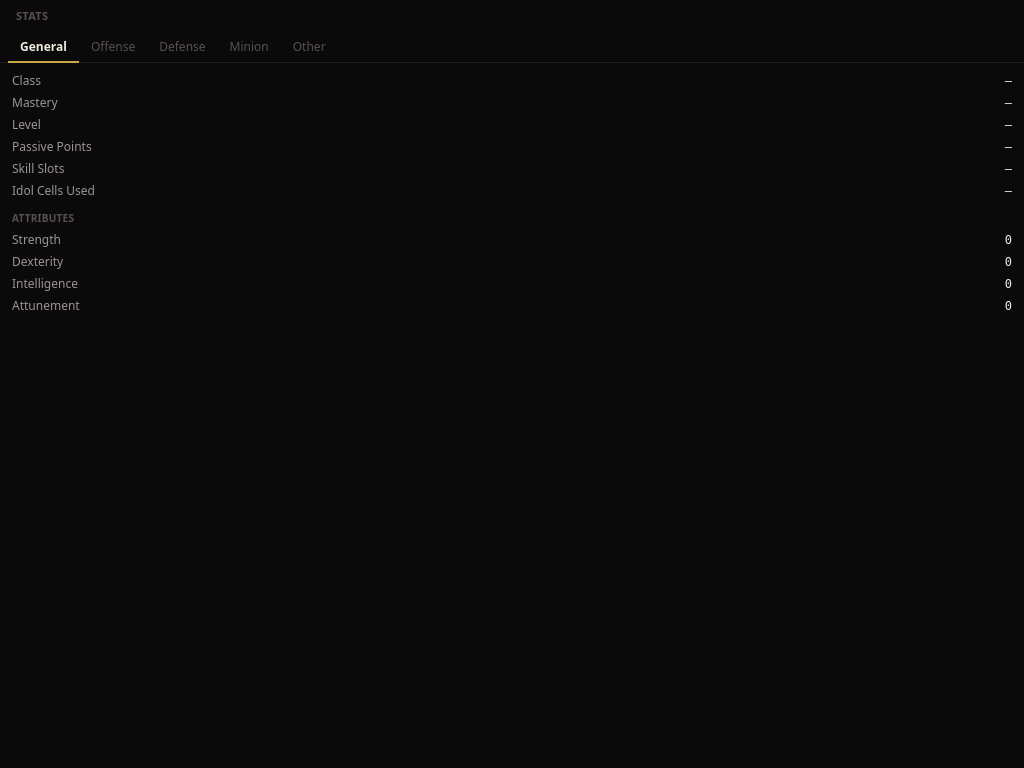
Test: StatSheetPanel › passes axe accessibility check on all tabs, including an open tooltip
Click the tab "Offense" at {"x": 113, "y": 48}, box 79,32 -> 147,62
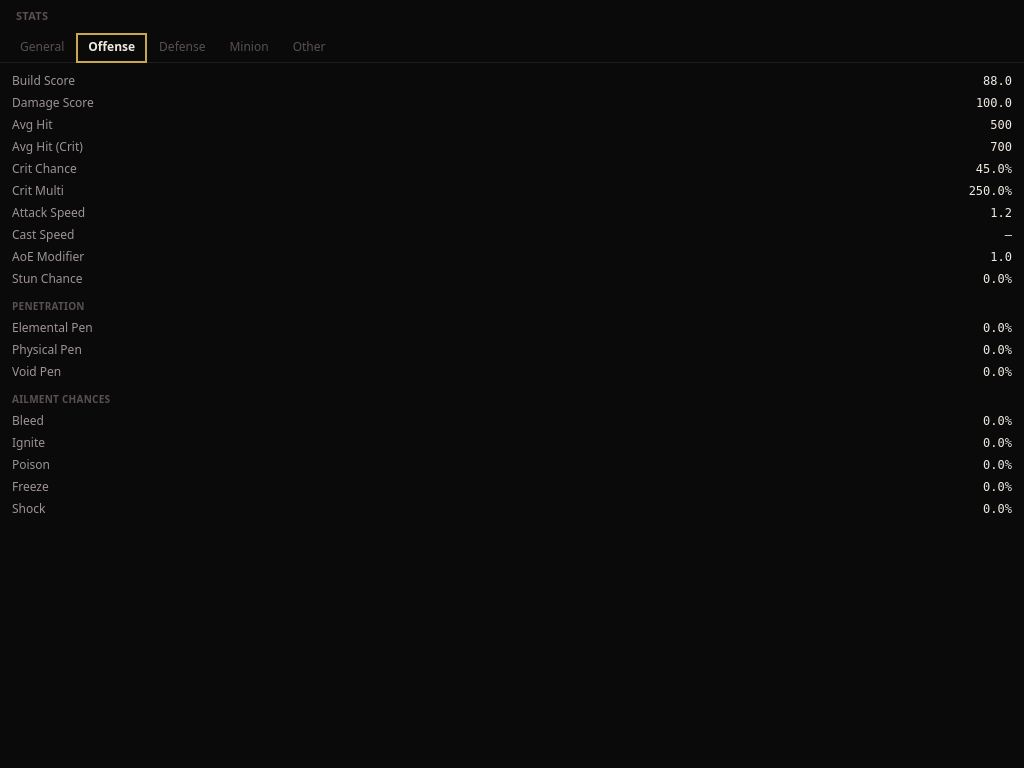
Click the tab "Defense" at {"x": 182, "y": 48}, box 147,32 -> 218,62
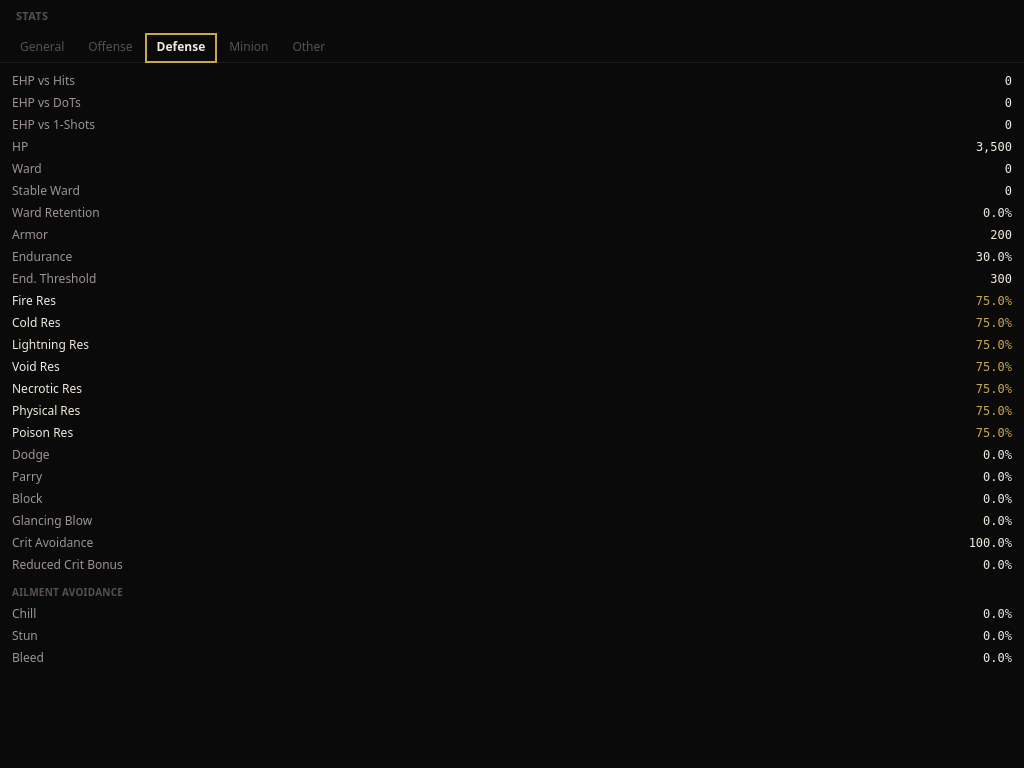
Click the tab "Minion" at {"x": 249, "y": 48}, box 217,32 -> 280,62
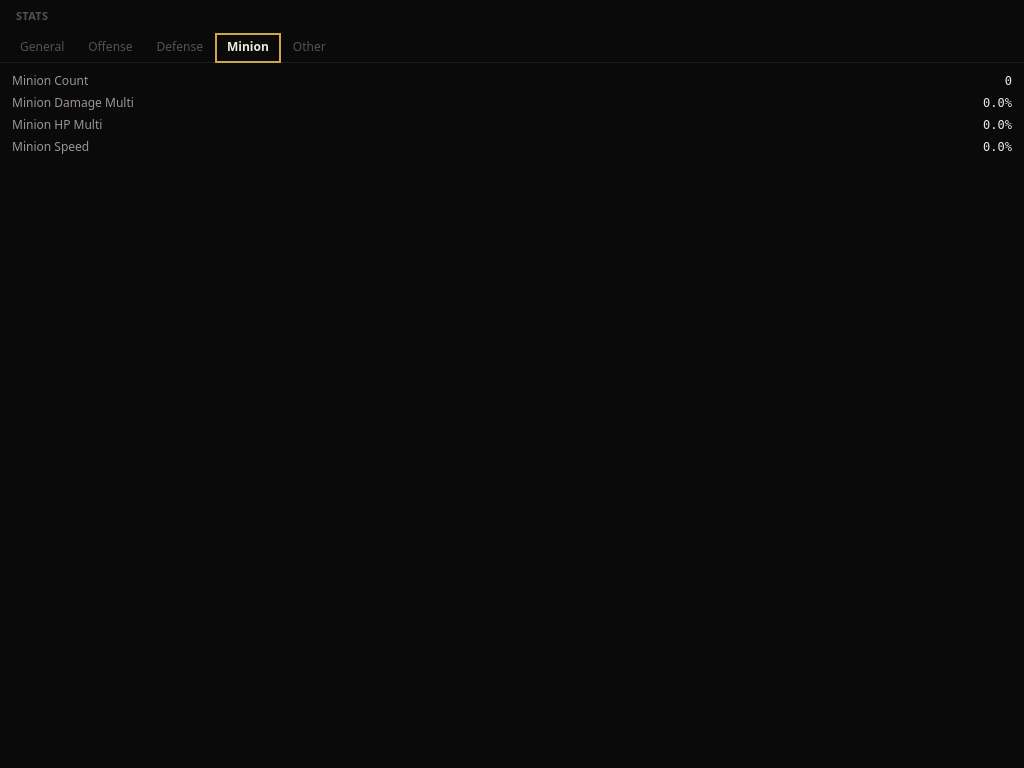
Click the tab "Other" at {"x": 309, "y": 48}, box 281,32 -> 338,62
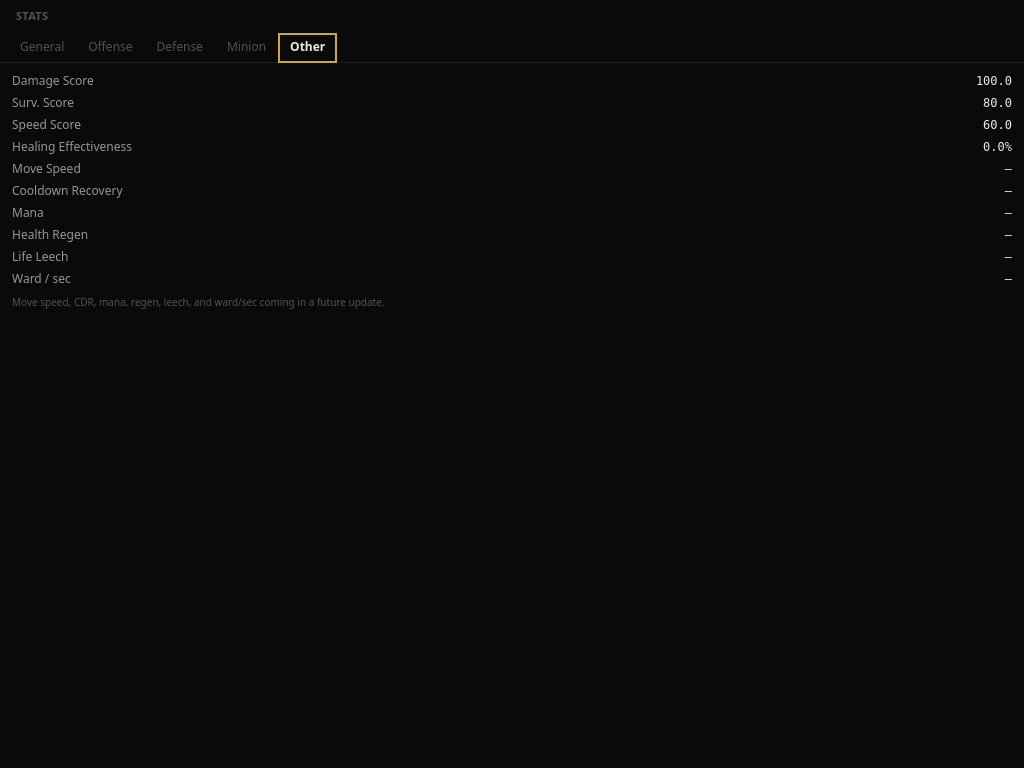
Click the tab "Defense" at {"x": 180, "y": 48}, box 145,32 -> 215,62
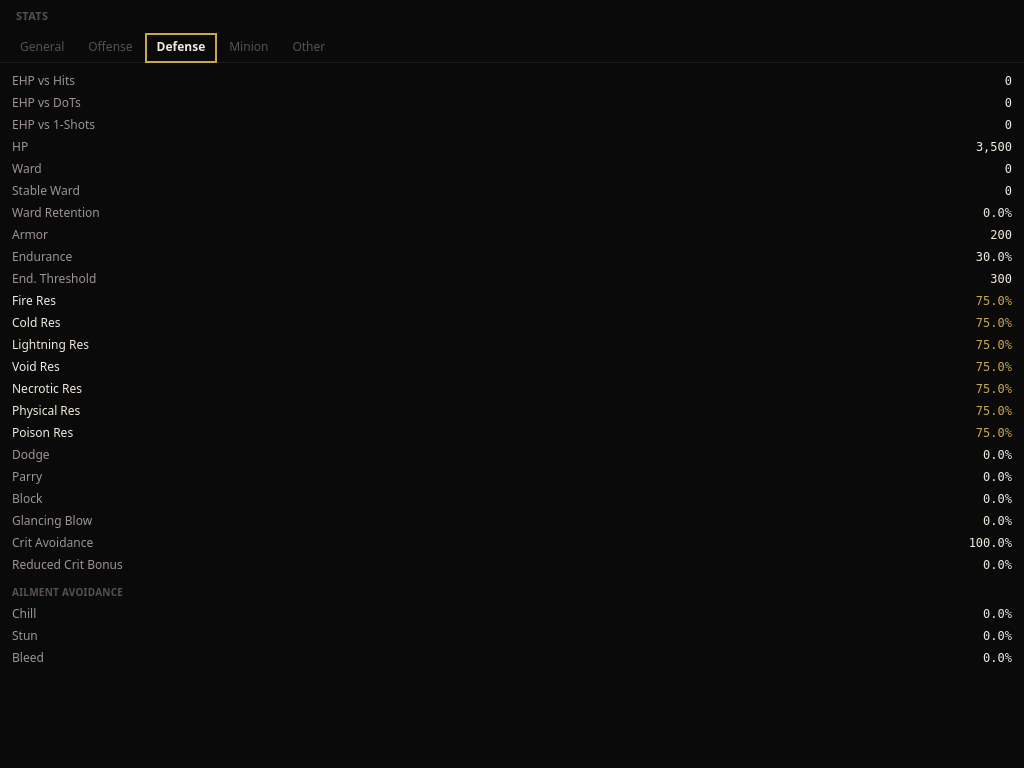
Hover over the element showing "Fire Res 75.0%" at {"x": 34, "y": 300}, box 12,290 -> 1012,310
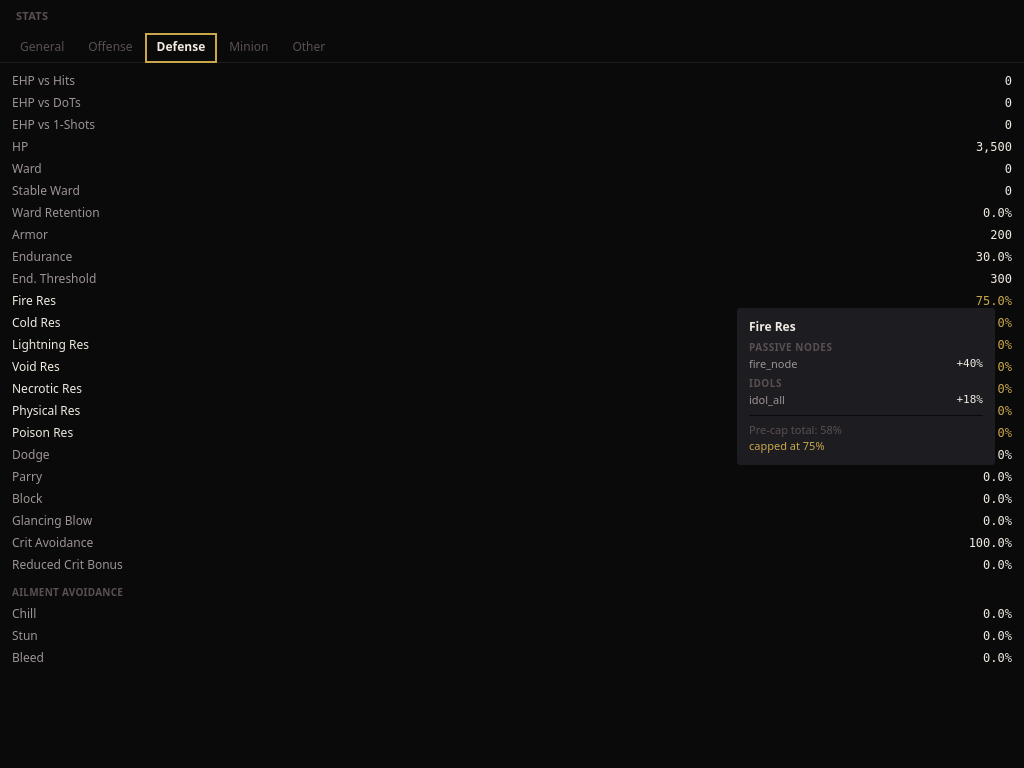
Result: the tooltip is shown at 736,306 -> 996,466
